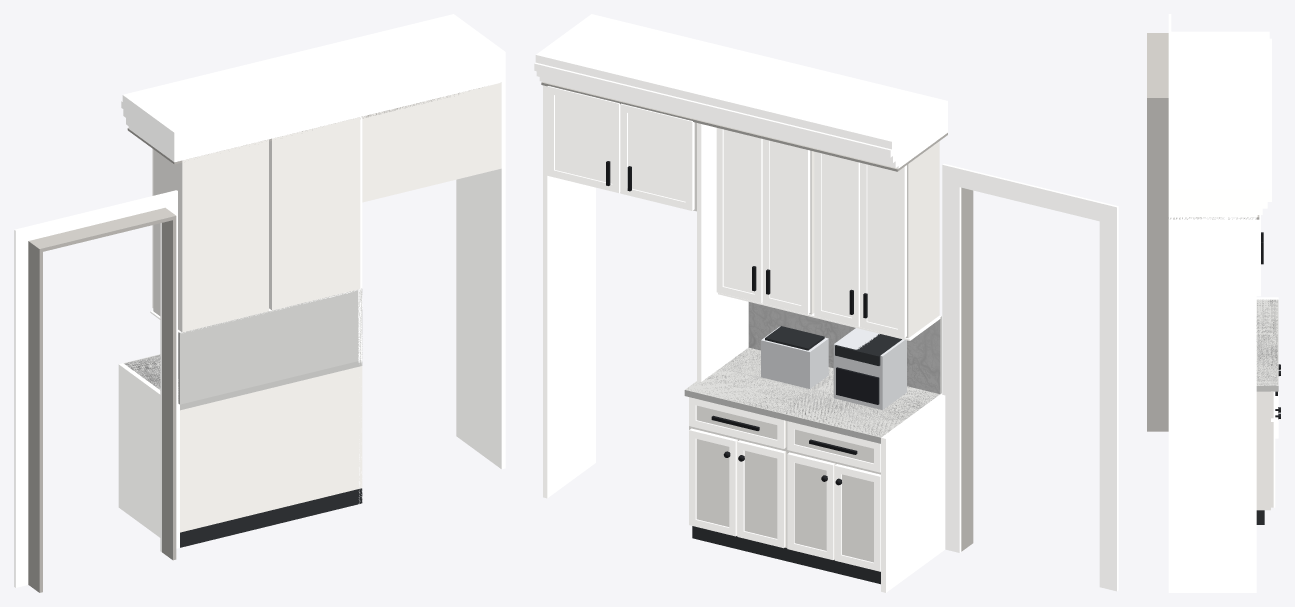
File: Kitchen_Cabinets_South.glb
3 renders of one model, left to right at view 1: azimuth 30°, elevation 25°; view 2: azimuth 150°, elevation 25°; view 3: azimuth 270°, elevation 25°, orthographic. The views are drawn at different scales.
Visible parts, largest first — view 1: root; view 2: root; view 3: root.
Part boxes in pixels (bbox=[...]): root: bbox=[14, 14, 505, 592]; root: bbox=[534, 14, 1118, 592]; root: bbox=[1147, 14, 1280, 592].
Bounding box in the file's own units: 3.27 × 2.66 × 0.7964.
12 materials, 2 textured.
